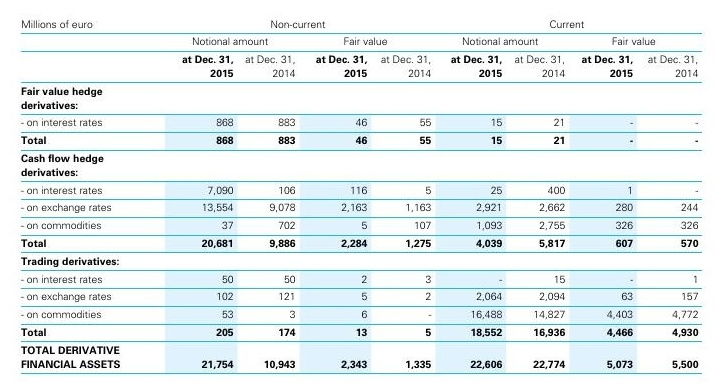table: (0, 0, 718, 391)
